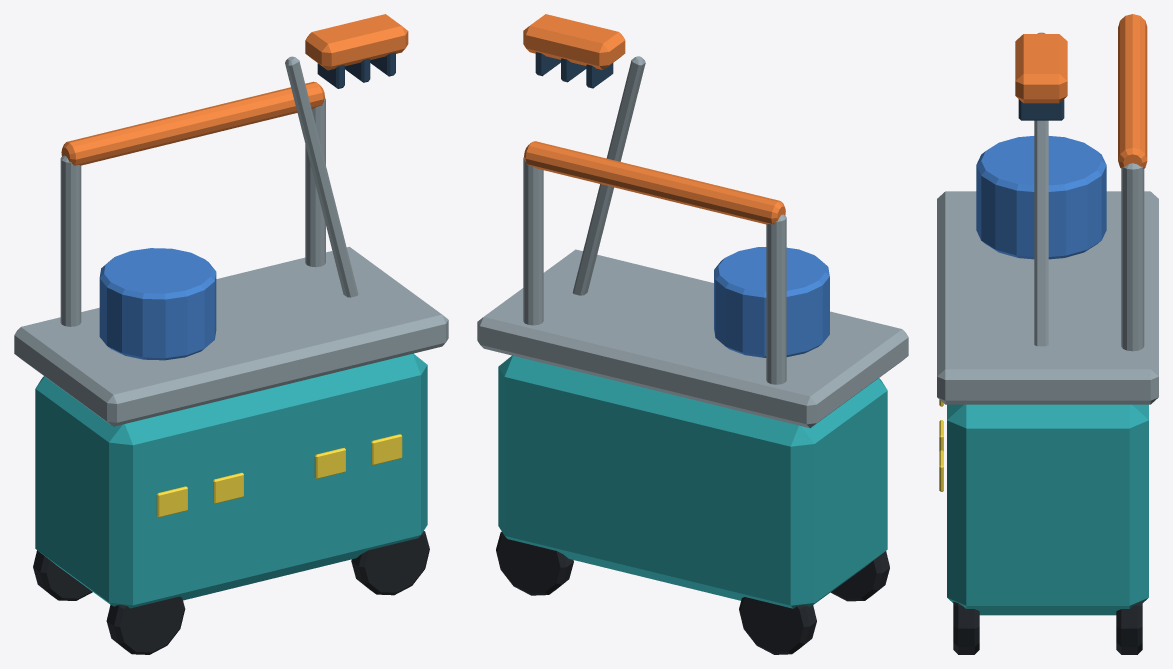
The model's file is pool-cleaning-cart.glb.
3 views of the same model, side by side, from view 1: azimuth 30°, elevation 25°; view 2: azimuth 150°, elevation 25°; view 3: azimuth 270°, elevation 25° (orthographic). The views are drawn at different scales.
Parts seen in each view (by area): view 1: LP_POOL_CART_BODY, LP_POOL_CART_TOP_TRAY, LP_POOL_CART_BUCKET, LP_POOL_CART_HANDLE_GRIP, LP_POOL_CART_BRUSH_HEAD, LP_POOL_CART_BRUSH_POLE, LP_POOL_CART_HANDLE_POST_-0.48, LP_POOL_CART_WHEEL_-0.48_-0.25, LP_POOL_CART_WHEEL_+0.48_-0.25, LP_POOL_CART_HANDLE_POST_+0.48, LP_POOL_CART_WHEEL_-0.48_+0.25, LP_POOL_CART_SAFETY_STRIPE_+0.20 (+3 smaller); view 2: LP_POOL_CART_BODY, LP_POOL_CART_TOP_TRAY, LP_POOL_CART_BUCKET, LP_POOL_CART_HANDLE_GRIP, LP_POOL_CART_BRUSH_HEAD, LP_POOL_CART_HANDLE_POST_-0.48, LP_POOL_CART_HANDLE_POST_+0.48, LP_POOL_CART_BRUSH_POLE, LP_POOL_CART_WHEEL_-0.48_+0.25, LP_POOL_CART_WHEEL_+0.48_+0.25, LP_POOL_CART_WHEEL_-0.48_-0.25; view 3: LP_POOL_CART_BODY, LP_POOL_CART_TOP_TRAY, LP_POOL_CART_BUCKET, LP_POOL_CART_HANDLE_GRIP, LP_POOL_CART_HANDLE_POST_+0.48, LP_POOL_CART_BRUSH_HEAD, LP_POOL_CART_BRUSH_POLE, LP_POOL_CART_WHEEL_+0.48_+0.25, LP_POOL_CART_WHEEL_+0.48_-0.25, LP_POOL_CART_BRUSH_BRISTLE_0.58.
Part boxes in pixels (x1=…): LP_POOL_CART_BODY: x1=35, y1=353, x2=427, y2=608; LP_POOL_CART_TOP_TRAY: x1=14, y1=246, x2=448, y2=426; LP_POOL_CART_BUCKET: x1=99, y1=248, x2=216, y2=360; LP_POOL_CART_HANDLE_GRIP: x1=61, y1=81, x2=324, y2=165; LP_POOL_CART_BRUSH_HEAD: x1=305, y1=14, x2=408, y2=70; LP_POOL_CART_BRUSH_POLE: x1=285, y1=56, x2=358, y2=297; LP_POOL_CART_HANDLE_POST_-0.48: x1=60, y1=155, x2=81, y2=326; LP_POOL_CART_WHEEL_-0.48_-0.25: x1=106, y1=596, x2=185, y2=654; LP_POOL_CART_WHEEL_+0.48_-0.25: x1=351, y1=531, x2=429, y2=595; LP_POOL_CART_HANDLE_POST_+0.48: x1=305, y1=98, x2=325, y2=267; LP_POOL_CART_WHEEL_-0.48_+0.25: x1=33, y1=550, x2=92, y2=600; LP_POOL_CART_SAFETY_STRIPE_+0.20: x1=314, y1=448, x2=345, y2=478; LP_POOL_CART_BODY: x1=498, y1=355, x2=887, y2=608; LP_POOL_CART_TOP_TRAY: x1=477, y1=249, x2=908, y2=428; LP_POOL_CART_BUCKET: x1=714, y1=247, x2=829, y2=357; LP_POOL_CART_HANDLE_GRIP: x1=524, y1=141, x2=785, y2=224; LP_POOL_CART_BRUSH_HEAD: x1=523, y1=14, x2=625, y2=69; LP_POOL_CART_HANDLE_POST_-0.48: x1=766, y1=214, x2=786, y2=384; LP_POOL_CART_HANDLE_POST_+0.48: x1=523, y1=157, x2=543, y2=325; LP_POOL_CART_BRUSH_POLE: x1=572, y1=56, x2=645, y2=295; LP_POOL_CART_WHEEL_-0.48_+0.25: x1=739, y1=597, x2=816, y2=654; LP_POOL_CART_WHEEL_+0.48_+0.25: x1=496, y1=531, x2=573, y2=595; LP_POOL_CART_WHEEL_-0.48_-0.25: x1=830, y1=551, x2=889, y2=601; LP_POOL_CART_BODY: x1=947, y1=404, x2=1148, y2=615; LP_POOL_CART_TOP_TRAY: x1=937, y1=191, x2=1158, y2=404; LP_POOL_CART_BUCKET: x1=976, y1=136, x2=1106, y2=259; LP_POOL_CART_HANDLE_GRIP: x1=1118, y1=14, x2=1147, y2=168; LP_POOL_CART_HANDLE_POST_+0.48: x1=1121, y1=163, x2=1144, y2=351; LP_POOL_CART_BRUSH_HEAD: x1=1015, y1=34, x2=1067, y2=103; LP_POOL_CART_BRUSH_POLE: x1=1034, y1=32, x2=1048, y2=346; LP_POOL_CART_WHEEL_+0.48_+0.25: x1=1116, y1=601, x2=1142, y2=654; LP_POOL_CART_WHEEL_+0.48_-0.25: x1=953, y1=601, x2=979, y2=654; LP_POOL_CART_BRUSH_BRISTLE_0.58: x1=1018, y1=99, x2=1064, y2=120.
Bounding box in the file's own units: 1.34 × 2.02 × 0.68.
